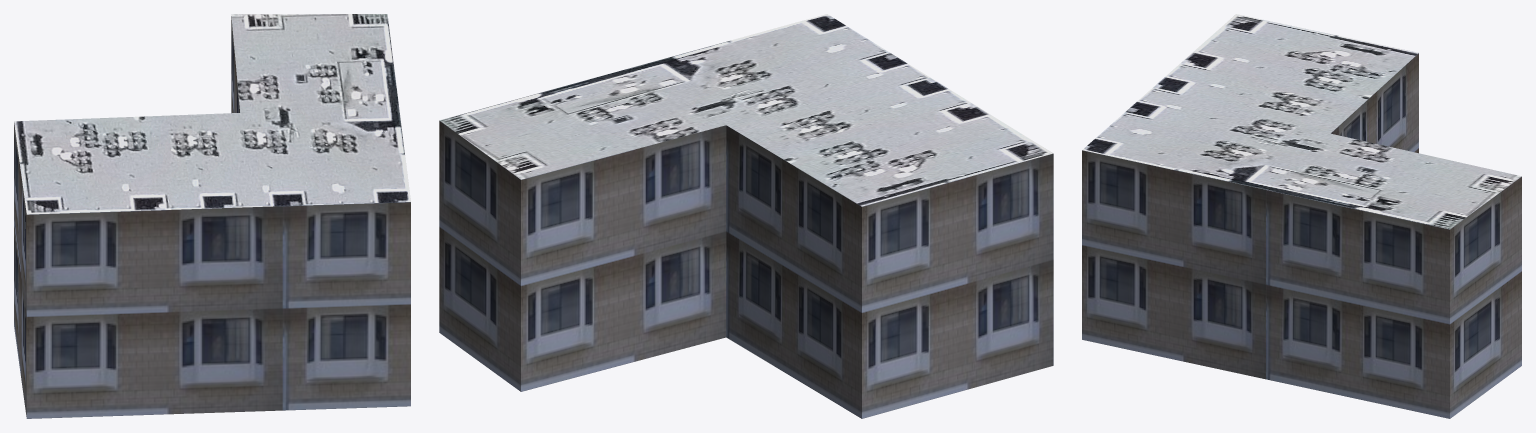
Rendered from ResTex__571.fbx.
3 renders of one model, left to right at view 1: azimuth 30°, elevation 25°; view 2: azimuth 150°, elevation 25°; view 3: azimuth 270°, elevation 25°, orthographic. The views are drawn at different scales.
Parts seen in each view (by area): view 1: CityEngineMaterial_3_m, CityEngineMaterial_8_m; view 2: CityEngineMaterial_3_m, CityEngineMaterial_8_m; view 3: CityEngineMaterial_3_m, CityEngineMaterial_8_m.
Part boxes in pixels (x1=…): CityEngineMaterial_3_m: x1=14, y1=16, x2=410, y2=418; CityEngineMaterial_8_m: x1=14, y1=14, x2=410, y2=214; CityEngineMaterial_3_m: x1=439, y1=120, x2=1053, y2=418; CityEngineMaterial_8_m: x1=439, y1=14, x2=1053, y2=206; CityEngineMaterial_3_m: x1=1082, y1=53, x2=1521, y2=418; CityEngineMaterial_8_m: x1=1082, y1=14, x2=1521, y2=229.
Size of the model in its own units: 14.63 by 6 by 12.62.
2 materials, 2 textured.
